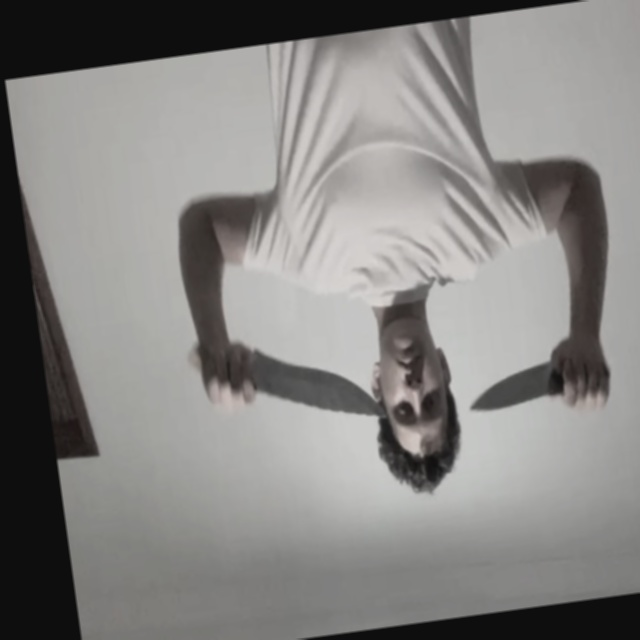Sharp-Object: (249, 337, 388, 437), (466, 362, 555, 413)
